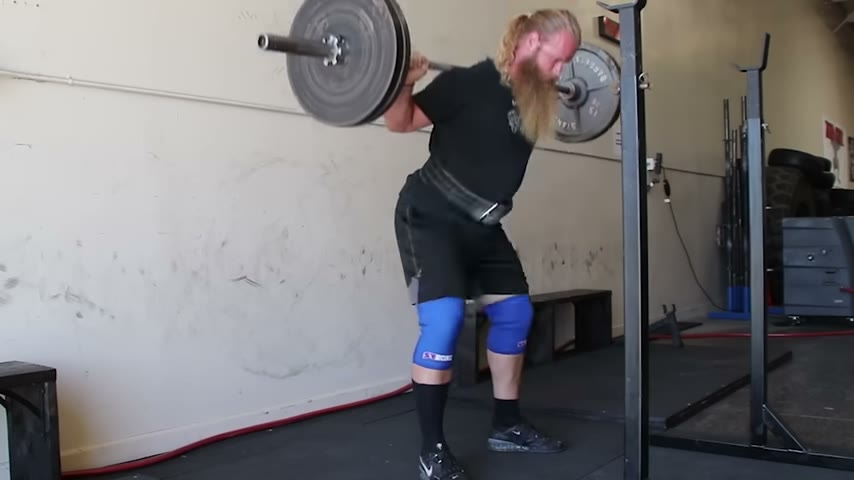barbell_plate_side: (262, 0, 359, 142), (551, 19, 624, 151)
